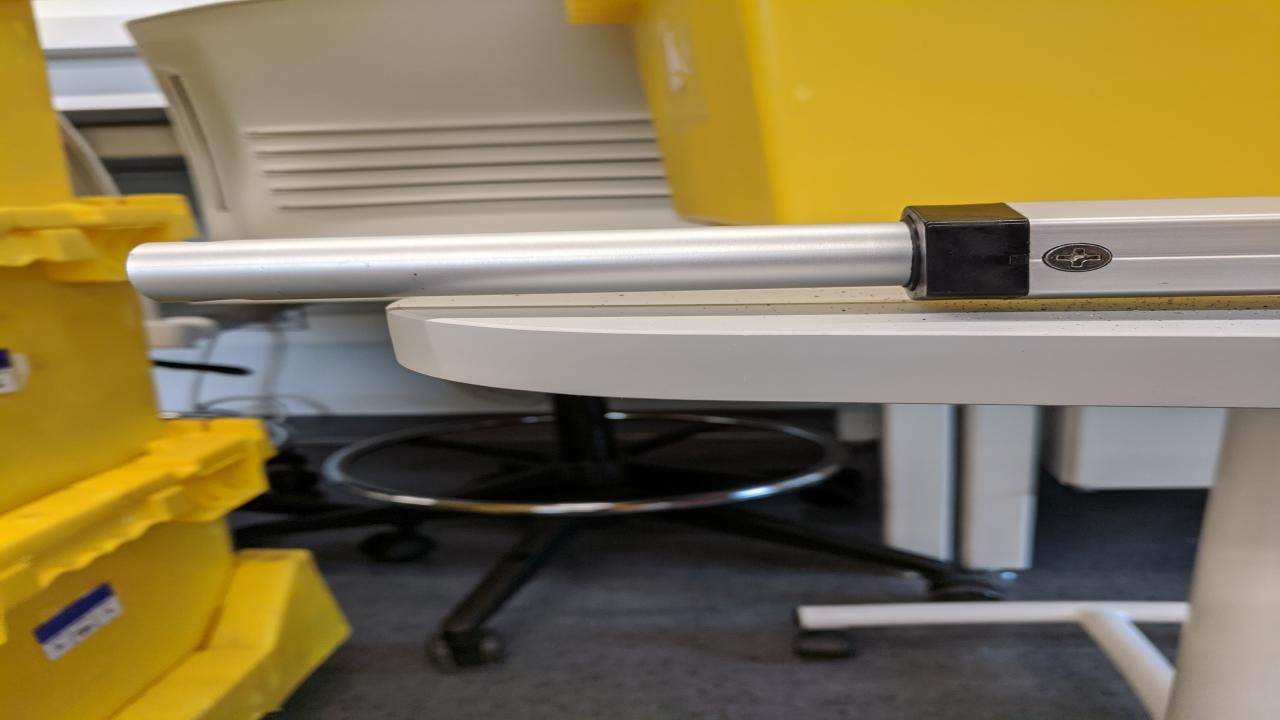CRS: (1042, 239, 1120, 275)
